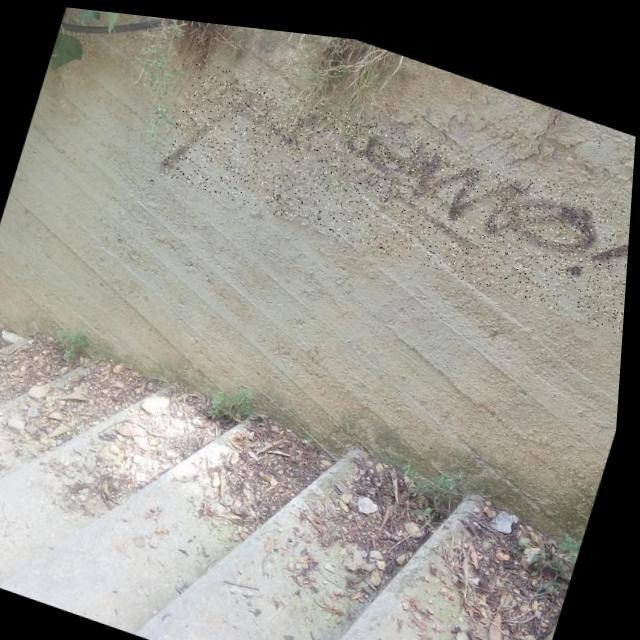-: (156, 51, 638, 323)
